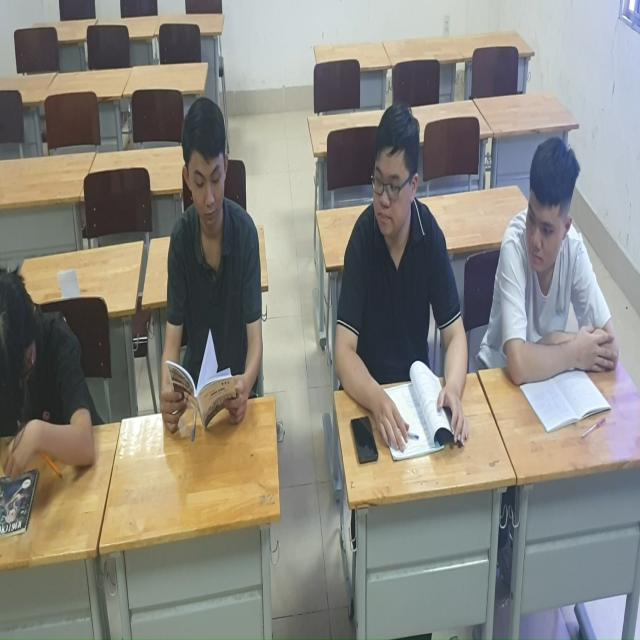read: (325, 112, 490, 456), (155, 86, 283, 470), (497, 119, 613, 426)
sleep: (1, 295, 101, 524)
